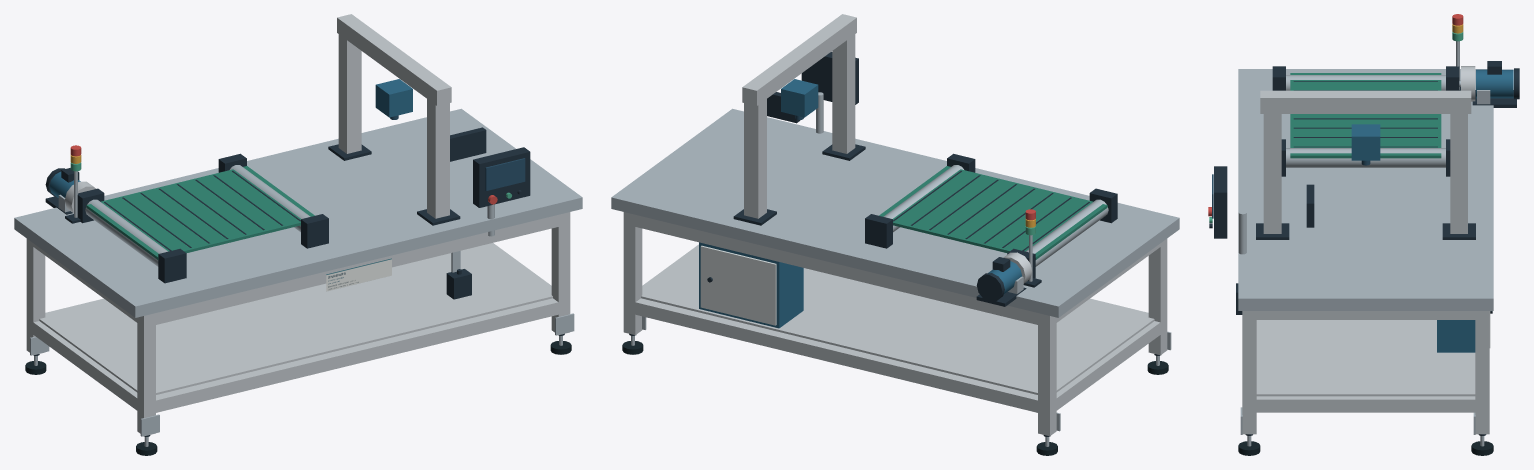
The model's file is laser-profile-cell.glb.
3 views of the same model, side by side, from view 1: azimuth 30°, elevation 25°; view 2: azimuth 150°, elevation 25°; view 3: azimuth 270°, elevation 25° (orthographic). The views are drawn at different scales.
Parts seen in each view (by area): view 1: ClosedMachineBed_28, LowerShelf_29, Belt_48, SlottedExtrusion_22, SlottedExtrusion_23, SlottedExtrusion_75, SlottedExtrusion_71, SlottedExtrusion_73, SlottedExtrusion_8, SlottedExtrusion_24, ConsoleBack_34, SlottedExtrusion_18 (+10 smaller); view 2: ClosedMachineBed_28, LowerShelf_29, Belt_48, SlottedExtrusion_20, SlottedExtrusion_21, BackDoor_31, SlottedExtrusion_75, SlottedExtrusion_73, SlottedExtrusion_71, SlottedExtrusion_3, SlottedExtrusion_13, Cabinet_30 (+8 smaller); view 3: ClosedMachineBed_28, LowerShelf_29, Belt_48, SlottedExtrusion_75, SlottedExtrusion_26, SlottedExtrusion_73, BeltRoller_52, SlottedExtrusion_71, SlottedExtrusion_27, SlottedExtrusion_18, SlottedExtrusion_13, Cabinet_30 (+12 smaller).
Part boxes in pixels (bbox=[...]): ClosedMachineBed_28: bbox=[14, 108, 582, 317]; LowerShelf_29: bbox=[39, 244, 552, 394]; Belt_48: bbox=[86, 166, 314, 259]; SlottedExtrusion_22: bbox=[150, 298, 564, 413]; SlottedExtrusion_23: bbox=[150, 213, 564, 326]; SlottedExtrusion_75: bbox=[337, 14, 451, 105]; SlottedExtrusion_71: bbox=[338, 27, 361, 153]; SlottedExtrusion_73: bbox=[427, 91, 449, 218]; SlottedExtrusion_8: bbox=[137, 313, 155, 436]; SlottedExtrusion_24: bbox=[33, 321, 137, 410]; ConsoleBack_34: bbox=[473, 147, 530, 207]; SlottedExtrusion_18: bbox=[551, 212, 570, 335]; ClosedMachineBed_28: bbox=[611, 108, 1179, 317]; LowerShelf_29: bbox=[641, 248, 1154, 394]; Belt_48: bbox=[879, 166, 1107, 259]; SlottedExtrusion_20: bbox=[629, 298, 1043, 413]; SlottedExtrusion_21: bbox=[635, 215, 1043, 324]; BackDoor_31: bbox=[700, 245, 776, 325]; SlottedExtrusion_75: bbox=[742, 14, 856, 105]; SlottedExtrusion_73: bbox=[832, 27, 855, 153]; SlottedExtrusion_71: bbox=[744, 94, 766, 218]; SlottedExtrusion_3: bbox=[1038, 313, 1056, 436]; SlottedExtrusion_13: bbox=[623, 212, 642, 335]; Cabinet_30: bbox=[699, 242, 803, 328]; ClosedMachineBed_28: bbox=[1238, 69, 1493, 310]; LowerShelf_29: bbox=[1256, 320, 1475, 396]; Belt_48: bbox=[1290, 73, 1441, 158]; SlottedExtrusion_75: bbox=[1260, 90, 1471, 113]; SlottedExtrusion_26: bbox=[1249, 396, 1482, 412]; SlottedExtrusion_73: bbox=[1263, 106, 1281, 233]; BeltRoller_52: bbox=[1286, 148, 1445, 167]; SlottedExtrusion_71: bbox=[1450, 106, 1467, 233]; SlottedExtrusion_27: bbox=[1249, 311, 1481, 319]; SlottedExtrusion_18: bbox=[1242, 311, 1256, 434]; SlottedExtrusion_13: bbox=[1475, 311, 1489, 434]; Cabinet_30: bbox=[1437, 320, 1475, 352].
Bounding box in the file's own units: 2.45 × 1.49 × 1.4.
12 materials, 1 textured.
